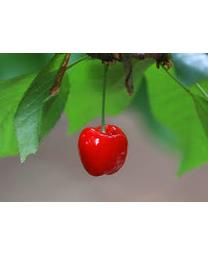cherry: (78, 123, 129, 177)
